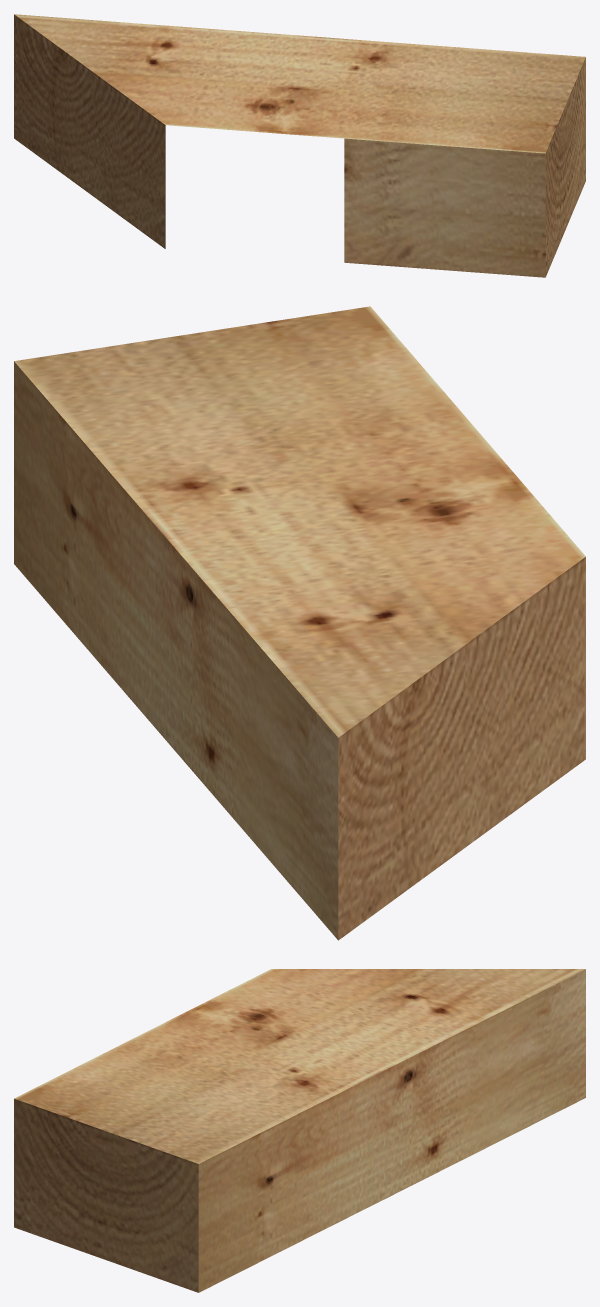
The picture shows the model from 3 angles, top to bottom: view 1: azimuth 30°, elevation 25°; view 2: azimuth 150°, elevation 25°; view 3: azimuth 270°, elevation 25°; orthographic projection. The views are drawn at different scales.
Parts seen in each view (by area): view 1: Joint_0_Object_0; view 2: Joint_0_Object_0; view 3: Joint_0_Object_0.
Boxes of the visible parts, <box> form: Joint_0_Object_0: <box>14,14,585,277</box>; Joint_0_Object_0: <box>14,306,585,940</box>; Joint_0_Object_0: <box>14,969,585,1292</box>.
Size of the model in its own units: 1396 by 430 by 1730.
1 material, 1 textured.
